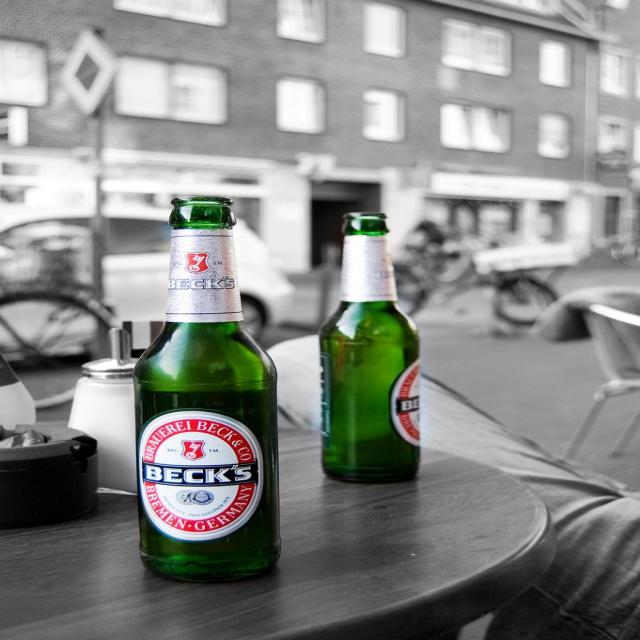becks: (137, 410, 269, 542), (389, 358, 422, 448)
